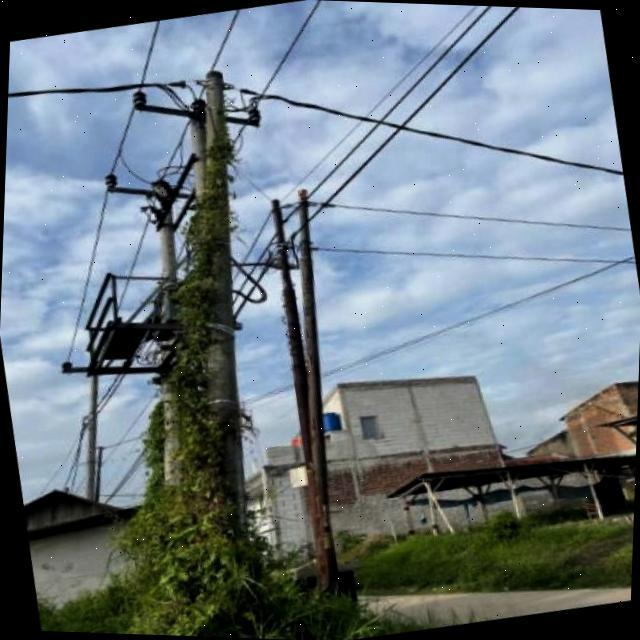critical vegetation: (74, 68, 315, 546)
